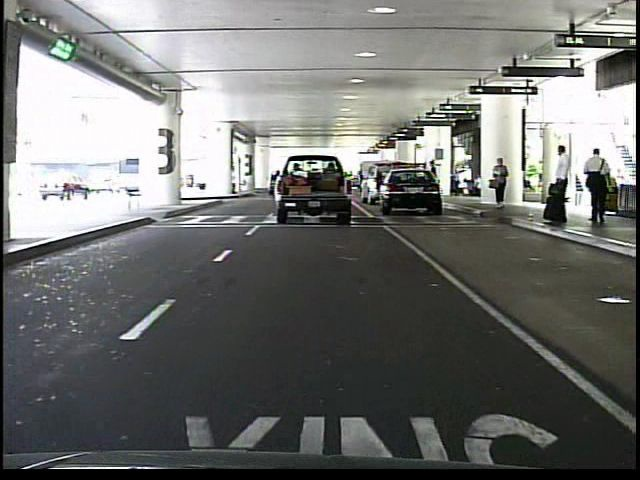person: (582, 145, 616, 228), (542, 142, 574, 229), (490, 153, 515, 214), (429, 158, 443, 202)
